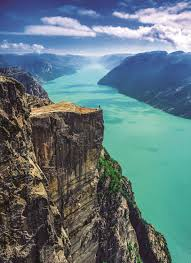mountain: (1, 68, 132, 263), (107, 48, 191, 115)
sky: (3, 3, 191, 51)
